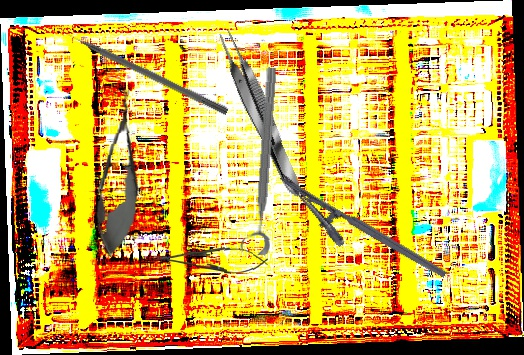Fixation Ring: (237, 66, 283, 256)
Micro Scissor: (90, 87, 149, 259)
Needle Holder: (265, 172, 448, 302), (151, 243, 269, 276)
Pusher: (56, 24, 230, 116)
Tissue Forceps: (211, 25, 309, 203)
